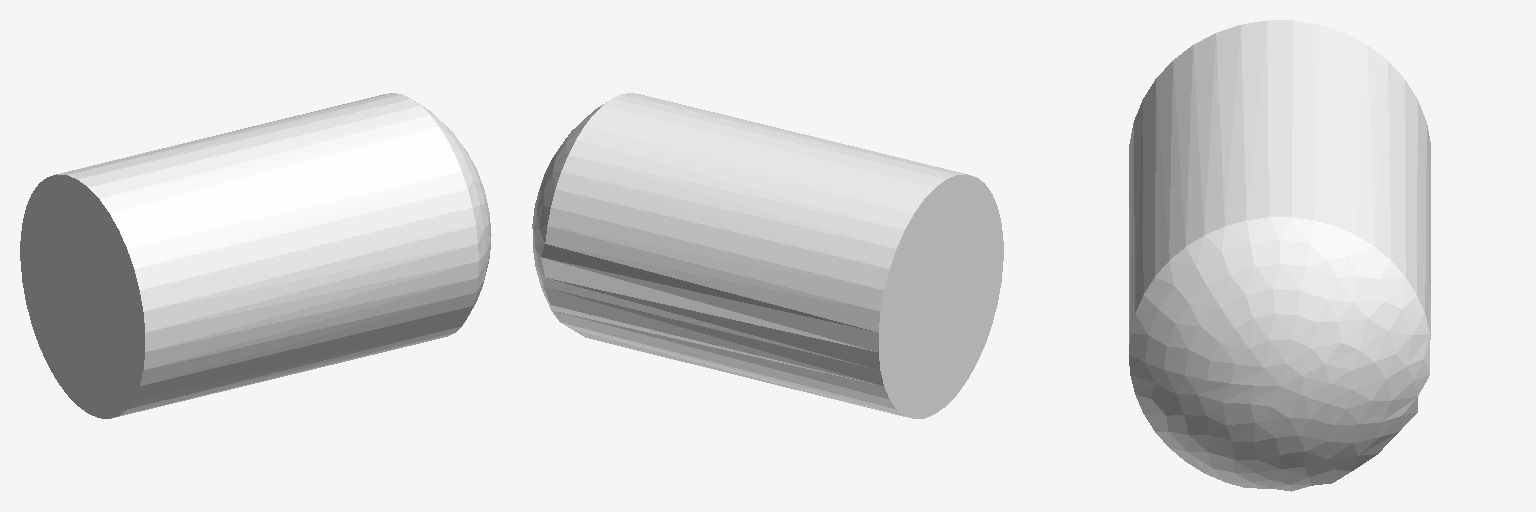
The robot description file, URDF, robot "d1_description":
<?xml version="1.0" encoding="utf-8"?>
<!-- This URDF was automatically created by SolidWorks to URDF Exporter! Originally created by [author] ([email redacted]) 
     Commit Version: 1.6.0-4-g7f85cfe  Build Version: 1.6.7995.38578
     For more information, please see http://wiki.ros.org/sw_urdf_exporter -->
<robot
  name="d1_description">
  <link
    name="base_link">
    <inertial>
      <origin
        xyz="-0.00048697 -2.9605E-12 0.017142"
        rpy="0 0 0" />
      <mass
        value="0.077233" />
      <inertia
        ixx="0.00010316"
        ixy="-1.0285E-14"
        ixz="2.0449E-07"
        iyy="0.00011888"
        iyz="7.3026E-15"
        izz="0.00018362" />
    </inertial>
    <visual>
      <origin
        xyz="0 0 0"
        rpy="0 0 0" />
      <geometry>
        <mesh
          filename="d1_assets/stl/base_link.STL" />
      </geometry>
      <material
        name="">
        <color
          rgba="1 1 1 1" />
      </material>
    </visual>
    <collision>
      <origin
        xyz="0 0 0"
        rpy="0 0 0" />
      <geometry>
        <mesh
          filename="d1_assets/stl/base_link.STL" />
      </geometry>
    </collision>
  </link>
  <link
    name="Link1">
    <inertial>
      <origin
        xyz="0.0024649 0.00010517 0.032696"
        rpy="0 0 0" />
      <mass
        value="0.13174" />
      <inertia
        ixx="6.7236E-05"
        ixy="-5.5664E-08"
        ixz="7.0454E-08"
        iyy="5.416E-05"
        iyz="-3.5709E-07"
        izz="4.6637E-05" />
    </inertial>
    <visual>
      <origin
        xyz="0 0 0"
        rpy="0 0 0" />
      <geometry>
        <mesh
          filename="d1_assets/stl/Link1.STL" />
      </geometry>
      <material
        name="">
        <color
          rgba="1 1 1 1" />
      </material>
    </visual>
    <collision>
      <origin
        xyz="0 0 0"
        rpy="0 0 0" />
      <geometry>
        <mesh
          filename="d1_assets/stl/Link1.STL" />
      </geometry>
    </collision>
  </link>
  <joint
    name="Joint1"
    type="revolute">
    <origin
      xyz="0 0 0.0533"
      rpy="0 0 -3.1416" />
    <parent
      link="base_link" />
    <child
      link="Link1" />
    <axis
      xyz="0 0 1" />
    <limit
      lower="-2.35"
      upper="2.35"
      effort="0"
      velocity="0" />
  </joint>
  <link
    name="Link2">
    <inertial>
      <origin
        xyz="0.0002018 0.19201 -0.027007"
        rpy="0 0 0" />
      <mass
        value="0.20213" />
      <inertia
        ixx="0.00025682"
        ixy="-1.139E-07"
        ixz="5.5667E-08"
        iyy="6.3307E-05"
        iyz="-3.5717E-07"
        izz="0.00022968" />
    </inertial>
    <visual>
      <origin
        xyz="0 0 0"
        rpy="0 0 0" />
      <geometry>
        <mesh
          filename="d1_assets/stl/Link2.STL" />
      </geometry>
      <material
        name="">
        <color
          rgba="1 1 1 1" />
      </material>
    </visual>
    <collision>
      <origin
        xyz="0 0 0"
        rpy="0 0 0" />
      <geometry>
        <mesh
          filename="d1_assets/stl/Link2.STL" />
      </geometry>
    </collision>
  </link>
  <joint
    name="Joint2"
    type="revolute">
    <origin
      xyz="0 0.028 0.0563"
      rpy="1.5708 0 -3.1416" />
    <parent
      link="Link1" />
    <child
      link="Link2" />
    <axis
      xyz="0 0 -1" />
    <limit
      lower="-1.57"
      upper="1.57"
      effort="0"
      velocity="0" />
  </joint>
  <link
    name="Link3">
    <inertial>
      <origin
        xyz="0.015164 0.044482 -0.027461"
        rpy="0 0 0" />
      <mass
        value="0.0629" />
      <inertia
        ixx="1.7232E-05"
        ixy="-2.6967E-06"
        ixz="-9.4911E-11"
        iyy="1.2606E-05"
        iyz="-9.9169E-11"
        izz="1.4964E-05" />
    </inertial>
    <visual>
      <origin
        xyz="0 0 0"
        rpy="0 0 0" />
      <geometry>
        <mesh
          filename="d1_assets/stl/Link3.STL" />
      </geometry>
      <material
        name="">
        <color
          rgba="1 1 1 1" />
      </material>
    </visual>
    <collision>
      <origin
        xyz="0 0 0"
        rpy="0 0 0" />
      <geometry>
        <mesh
          filename="d1_assets/stl/Link3.STL" />
      </geometry>
    </collision>
  </link>
  <joint
    name="Joint3"
    type="revolute">
    <origin
      xyz="0 0.2693 0.0009"
      rpy="0 0 0" />
    <parent
      link="Link2" />
    <child
      link="Link3" />
    <axis
      xyz="0 0 -1" />
    <limit
      lower="-1.57"
      upper="1.57"
      effort="0"
      velocity="0" />
  </joint>
  <link
    name="Link4">
    <inertial>
      <origin
        xyz="-0.00029556 -0.00016104 0.091339"
        rpy="0 0 0" />
      <mass
        value="0.083332" />
      <inertia
        ixx="3.9308E-05"
        ixy="1.0126E-08"
        ixz="-9.4316E-08"
        iyy="3.4378E-05"
        iyz="-1.6915E-09"
        izz="1.1597E-05" />
    </inertial>
    <visual>
      <origin
        xyz="0 0 0"
        rpy="0 0 0" />
      <geometry>
        <mesh
          filename="d1_assets/stl/Link4.STL" />
      </geometry>
      <material
        name="">
        <color
          rgba="1 1 1 1" />
      </material>
    </visual>
    <collision>
      <origin
        xyz="0 0 0"
        rpy="0 0 0" />
      <geometry>
        <mesh
          filename="d1_assets/stl/Link4.STL" />
      </geometry>
    </collision>
  </link>
  <joint
    name="Joint4"
    type="revolute">
    <origin
      xyz="0.0577 0.042 -0.0275"
      rpy="-1.5708 0 -1.5708" />
    <parent
      link="Link3" />
    <child
      link="Link4" />
    <axis
      xyz="0 0 1" />
    <limit
      lower="-2.35"
      upper="2.35"
      effort="0"
      velocity="0" />
  </joint>
  <link
    name="Link5">
    <inertial>
      <origin
        xyz="0.040573 0.0062891 -0.023838"
        rpy="0 0 0" />
      <mass
        value="0.053817" />
      <inertia
        ixx="1.3072E-05"
        ixy="-3.9511E-07"
        ixz="-3.1889E-10"
        iyy="8.6301E-06"
        iyz="-1.8416E-09"
        izz="1.1049E-05" />
    </inertial>
    <visual>
      <origin
        xyz="0 0 0"
        rpy="0 0 0" />
      <geometry>
        <mesh
          filename="d1_assets/stl/Link5.STL" />
      </geometry>
      <material
        name="">
        <color
          rgba="1 1 1 1" />
      </material>
    </visual>
    <collision>
      <origin
        xyz="0 0 0"
        rpy="0 0 0" />
      <geometry>
        <mesh
          filename="d1_assets/stl/Link5.STL" />
      </geometry>
    </collision>
  </link>
  <joint
    name="Joint5"
    type="revolute">
    <origin
      xyz="-0.0001 -0.0237 0.14018"
      rpy="1.5708 -1.5708 0" />
    <parent
      link="Link4" />
    <child
      link="Link5" />
    <axis
      xyz="0 0 -1" />
    <limit
      lower="-1.57"
      upper="1.57"
      effort="0"
      velocity="0" />
  </joint>
  <link
    name="Link6">
    <inertial>
      <origin
        xyz="-0.0068528 -3.9973E-06 0.039705"
        rpy="0 0 0" />
      <mass
        value="0.077892" />
      <inertia
        ixx="3.8236E-05"
        ixy="1.3465E-08"
        ixz="-2.0614E-07"
        iyy="1.7707E-05"
        iyz="-6.7117E-10"
        izz="4.8839E-05" />
    </inertial>
    <visual>
      <origin
        xyz="0 0 0"
        rpy="0 0 0" />
      <geometry>
        <mesh
          filename="d1_assets/stl/Link6-new.stl" />
      </geometry>
      <material
        name="">
        <color
          rgba="1 1 1 1" />
      </material>
    </visual>
  </link>

  <joint
    name="Joint6"
    type="revolute">
    <origin
      xyz="0.0825 -0.0010782 -0.023822"
      rpy="-1.5708 0 -1.5708" />
    <parent
      link="Link5" />
    <child
      link="Link6" />
    <axis
      xyz="0 0 -1" />
    <limit
      lower="-2.35"
      upper="2.35"
      effort="0"
      velocity="0" />
  </joint>
</robot>

--- Render facts (derived) ---
Views: 3 orthographic renders of the robot side by side, from view 1: azimuth 30°, elevation 25°; view 2: azimuth 150°, elevation 25°; view 3: azimuth 270°, elevation 25°.
Robot: d1_description — 7 links, 6 joints (6 revolute); root link base_link; default pose: every joint at zero.
Visible links, largest first — view 1: Link6; view 2: Link6; view 3: Link6.
Boxes of the visible links, x1,y1,x2,y2 form: Link6: (20, 93, 491, 418); Link6: (532, 93, 1003, 418); Link6: (1129, 20, 1430, 491).
Bounding box of the posed robot: 0.05 × 0.0279 × 0.0279 m (x, y, z).
1 mesh visuals loaded from 7 distinct referenced files (1 binary STL); not drawn: 6 (reference not matched to a file when rendering).